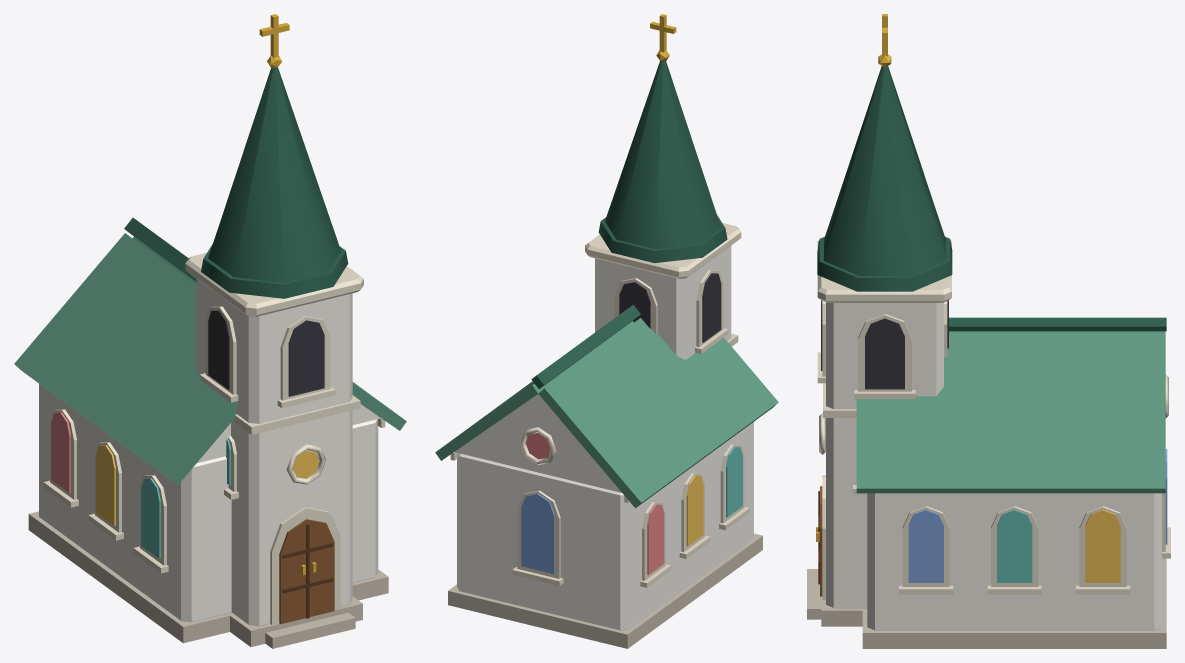
The model's file is village_church.glb.
The picture shows the model from 3 angles, left to right: view 1: azimuth 30°, elevation 25°; view 2: azimuth 150°, elevation 25°; view 3: azimuth 270°, elevation 25°; orthographic projection. The views are drawn at different scales.
Visible parts, largest first — view 1: roof_left, tower, nave_walls, spire, nave_plinth, door, tower_cornice, spire_base, belfry_opening_front, door_surround, door_step, tower_plinth (+15 smaller); view 2: nave_walls, roof_left, spire, tower, nave_gables, nave_plinth, window_rear_glass, tower_cornice, spire_base, roof_right, roof_ridge, belfry_opening_left (+12 smaller); view 3: roof_right, nave_walls, spire, tower, nave_plinth, roof_ridge, belfry_opening_right, spire_base, window_r0_glass, window_r1_glass, window_r2_glass, tower_cornice (+7 smaller).
Boxes of the visible parts, box(x1,y1,x2,y2) form: roof_left: box(14, 233, 236, 484); tower: box(196, 279, 352, 626); nave_walls: box(39, 384, 378, 622); spire: box(208, 67, 340, 282); nave_plinth: box(28, 511, 388, 643); door: box(279, 519, 334, 624); tower_cornice: box(185, 252, 363, 316); spire_base: box(201, 244, 348, 298); belfry_opening_front: box(288, 320, 324, 396); door_surround: box(270, 507, 340, 624); door_step: box(265, 612, 355, 648); tower_plinth: box(227, 596, 362, 646); nave_walls: box(457, 422, 753, 630); roof_left: box(538, 318, 778, 507); spire: box(605, 60, 721, 248); tower: box(595, 245, 731, 359); nave_gables: box(455, 394, 621, 492); nave_plinth: box(448, 533, 762, 648); window_rear_glass: box(521, 493, 554, 573); tower_cornice: box(585, 223, 741, 278); spire_base: box(598, 215, 727, 263); roof_right: box(435, 321, 633, 460); roof_ridge: box(531, 304, 640, 388); belfry_opening_left: box(702, 273, 721, 342); roof_right: box(856, 333, 1165, 493); nave_walls: box(867, 493, 1161, 630); spire: box(824, 66, 945, 275); tower: box(826, 302, 943, 608); nave_plinth: box(862, 558, 1166, 648); roof_ridge: box(949, 317, 1166, 331); belfry_opening_right: box(865, 318, 904, 389); spire_base: box(817, 236, 952, 291); window_r0_glass: box(1085, 509, 1120, 582); window_r1_glass: box(997, 509, 1032, 582); window_r2_glass: box(908, 509, 943, 582); tower_cornice: box(817, 240, 951, 302).
Bounding box in the file's own units: 2.27 × 5.47 × 3.08.
